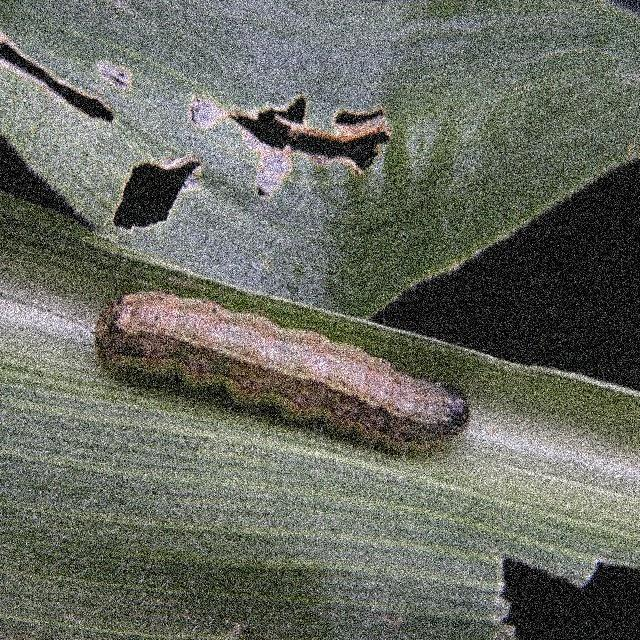gusano_cogollero: (94, 284, 478, 456)
